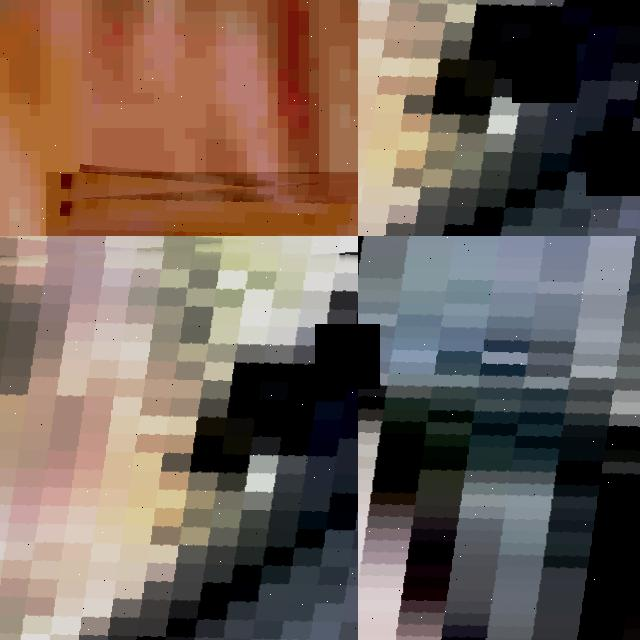arms: (0, 236, 358, 640), (358, 236, 640, 640), (358, 0, 640, 236), (46, 172, 358, 236)
